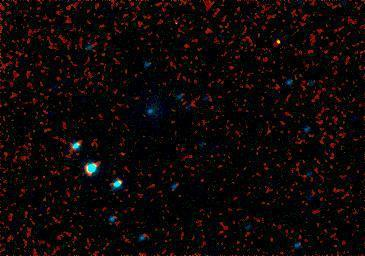star: (258, 21, 288, 51)
